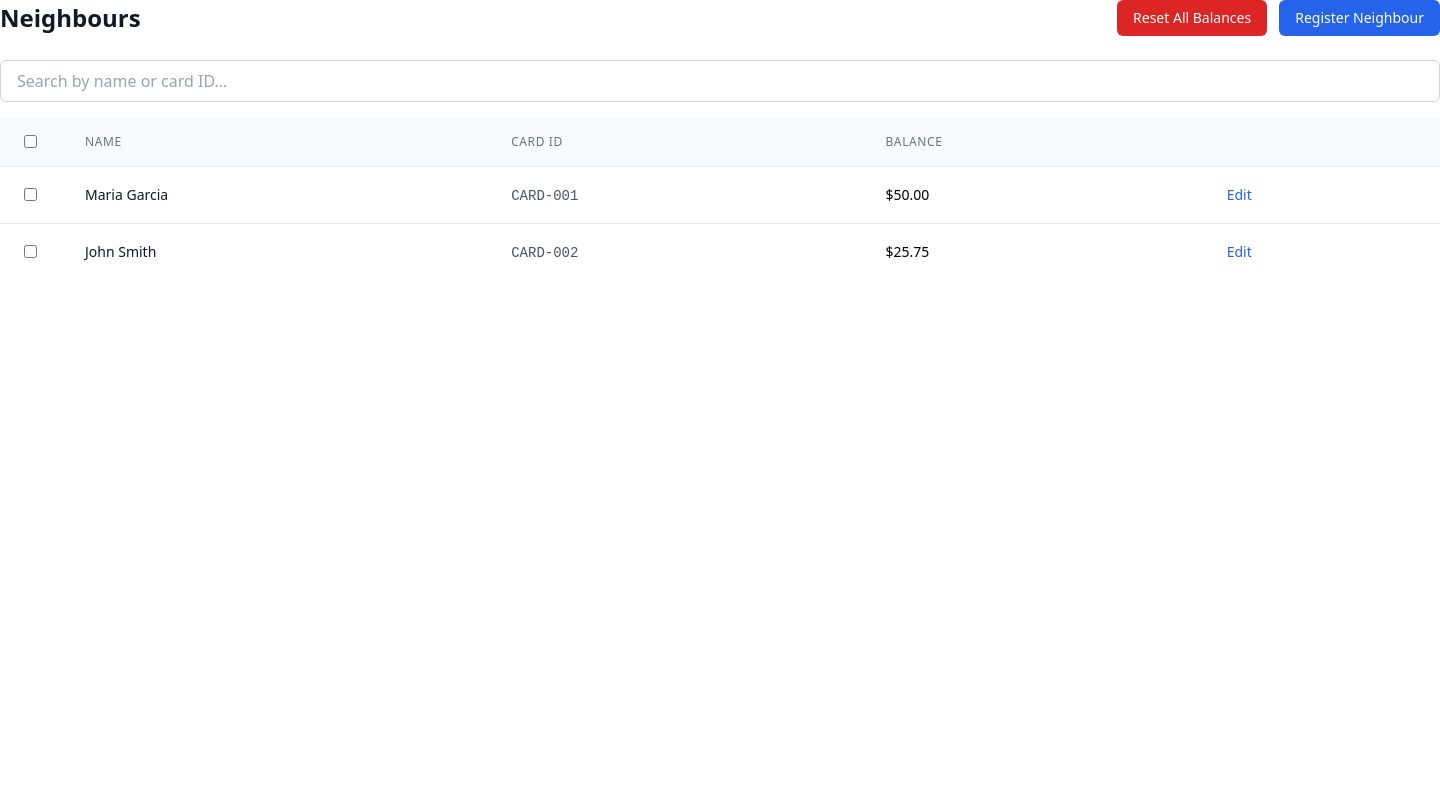
Test: NeighbourListPage › shows confirmation modal when reset button is clicked
Click the button with test id "reset-balances-button" at [1192, 18], box [1117,0,1267,36]
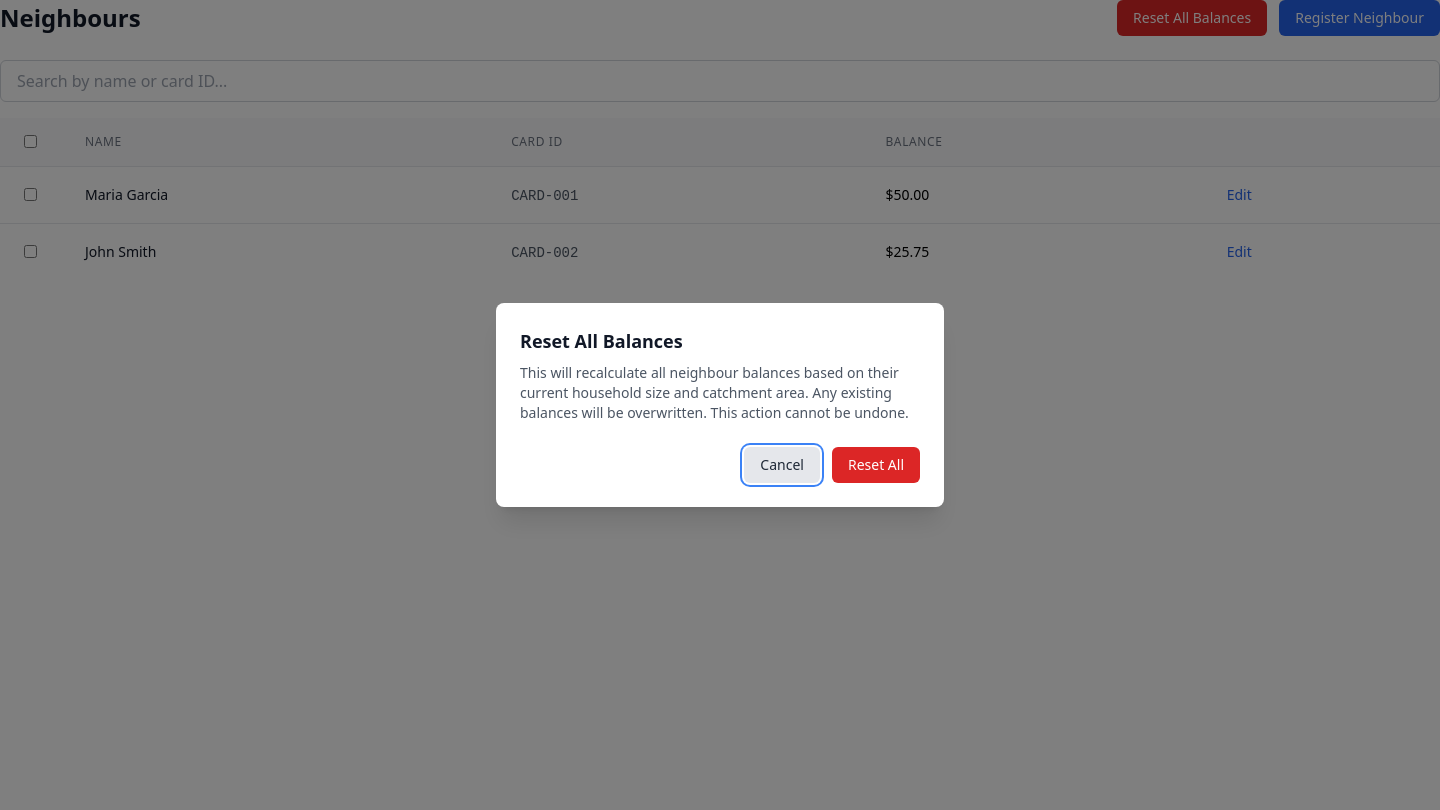
Expected: the dialog with test id "confirm-modal" is shown
Expected: the text "recalculate all neighbour balances" is shown, [520,363,909,422]
Expected: the button with test id "confirm-modal-confirm" is shown, [832,447,920,483]
